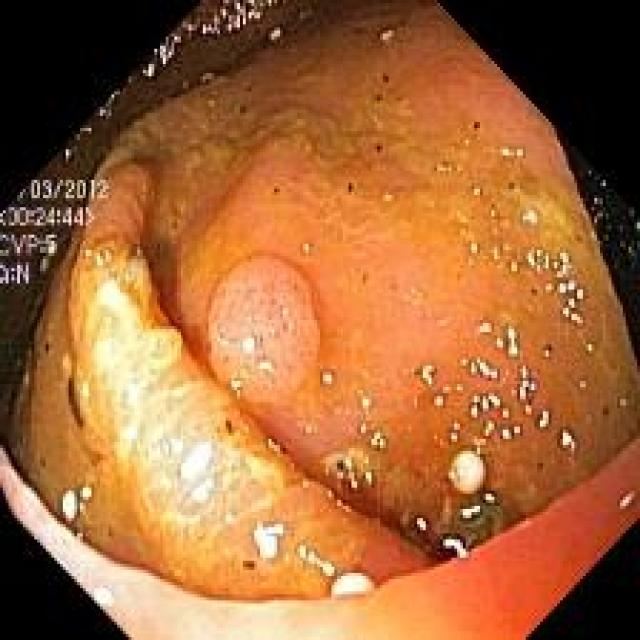Polyps: (209, 256, 320, 405)
